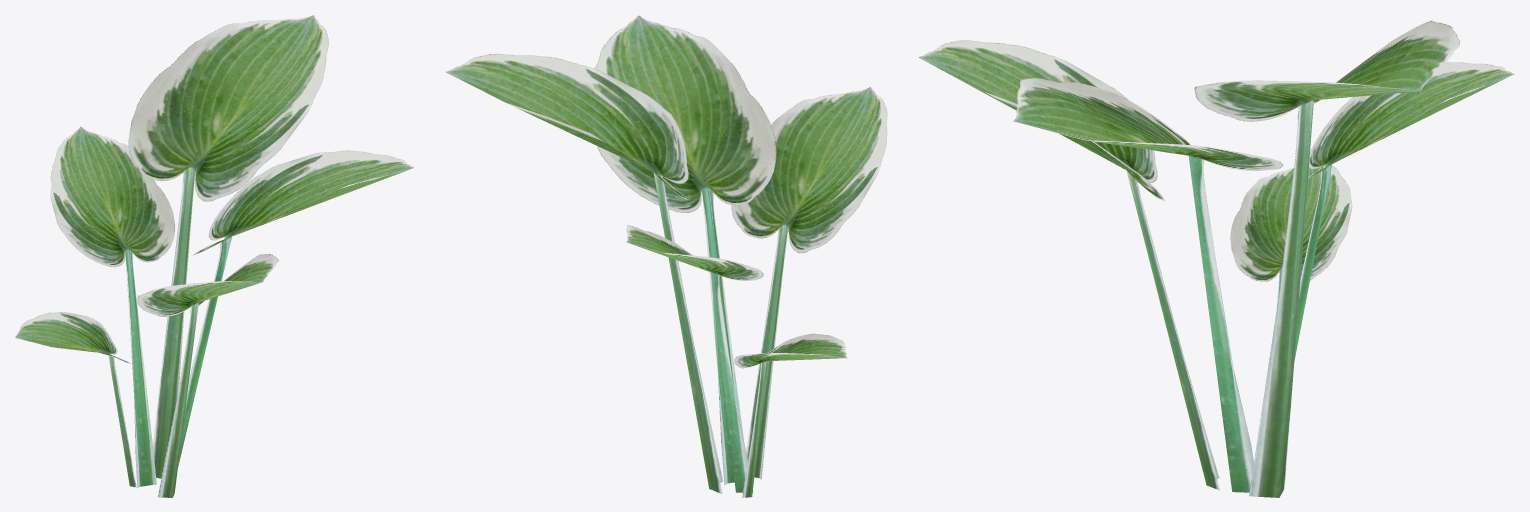
The model's file is plant_small_wg_05.fbx.
3 views of the same model, side by side, from view 1: azimuth 30°, elevation 25°; view 2: azimuth 150°, elevation 25°; view 3: azimuth 270°, elevation 25° (orthographic). The views are drawn at different scales.
Parts seen in each view (by area): view 1: plant_small_wg_05; view 2: plant_small_wg_05; view 3: plant_small_wg_05.
Part boxes in pixels (x1,y1,x2,y2): plant_small_wg_05: [15, 15, 414, 497]; plant_small_wg_05: [446, 15, 887, 497]; plant_small_wg_05: [919, 20, 1514, 497].
Size of the model in its own units: 44.45 by 47.47 by 46.86.
